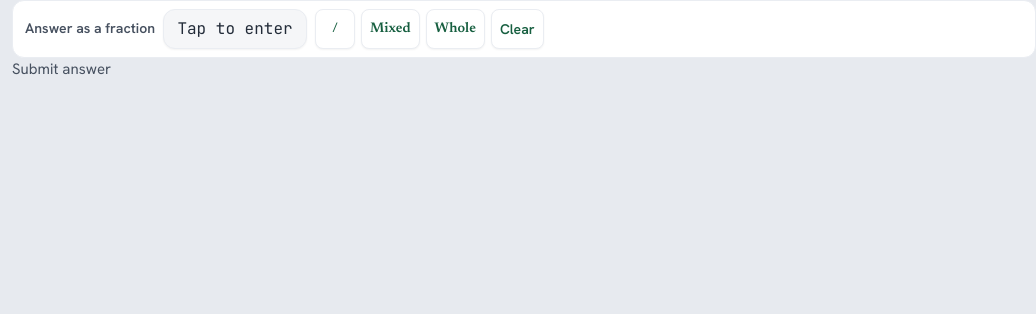
AnswerInputRenderer contextual math input › renders contextual tools and opens a structured fraction popup for F001
The width and height of the screenshot is (1036, 314).
expect the text "Answer as a fraction" is shown: met, box [25,20,155,38]
expect the button with aria-label "Math answer value" reads "Tap to enter": met, box [163,9,307,49]
Step 1. Click the button named "Fraction" → click(335, 29), box [315,9,355,49]
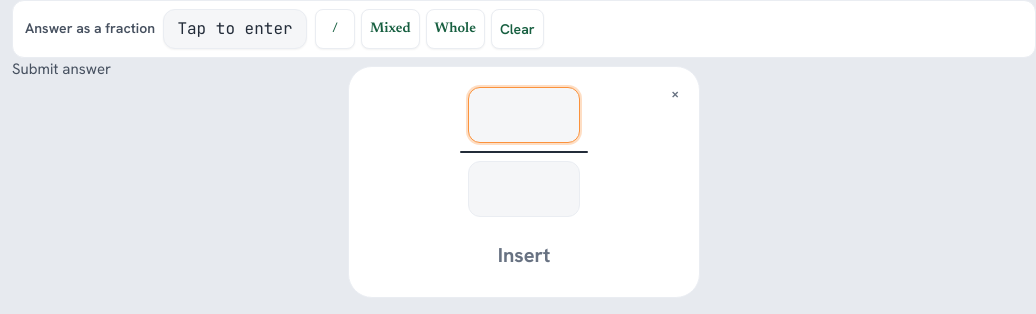
expect the field named "Numerator" is shown: met, box [468,87,580,143]
expect the button "Insert" is shown: met, box [478,233,570,277]
